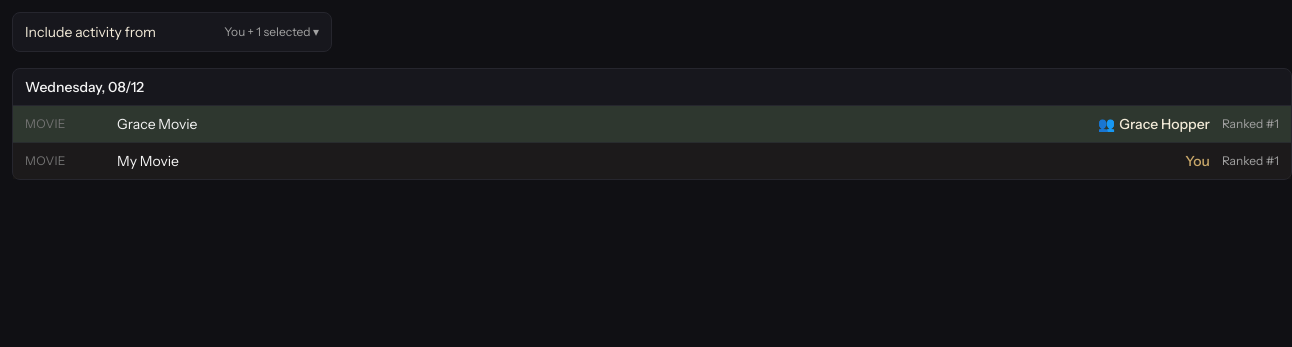
Scenario: ActivityFeed › restores the selected people for a later activity-page mount
expect the link "Grace Movie" is shown: met, box x1=117 y1=115 x2=198 y2=133
Click the button "Include activity from You + 1 selected ▾". click: (90, 32)
box: x1=12 y1=12 x2=332 y2=52
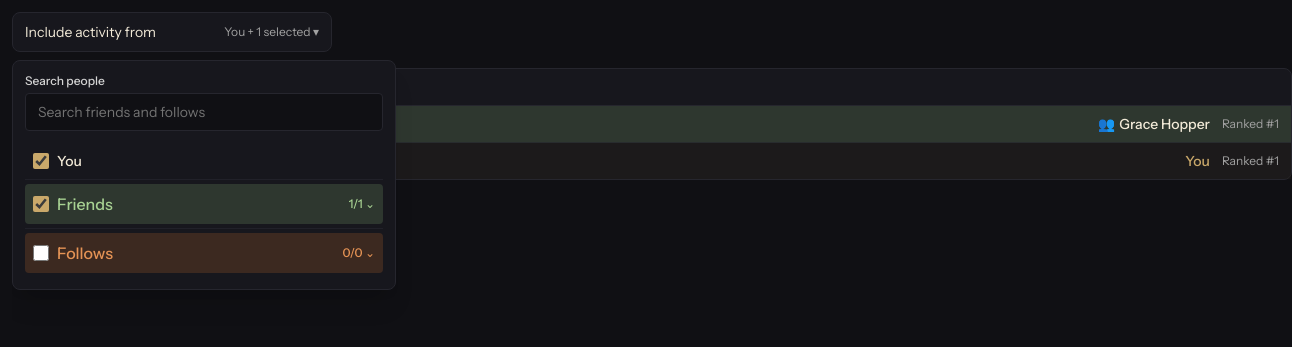
Click the button "Friends 1/1 ⌄". click: (85, 204)
box: x1=57 y1=192 x2=375 y2=216
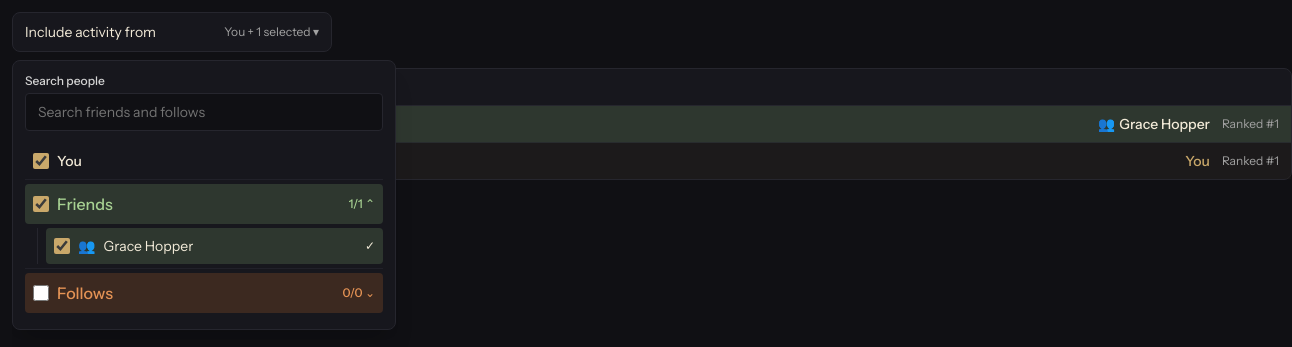
expect the checkbox named "Include Grace Hopper" is checked: met, box x1=54 y1=238 x2=70 y2=254
